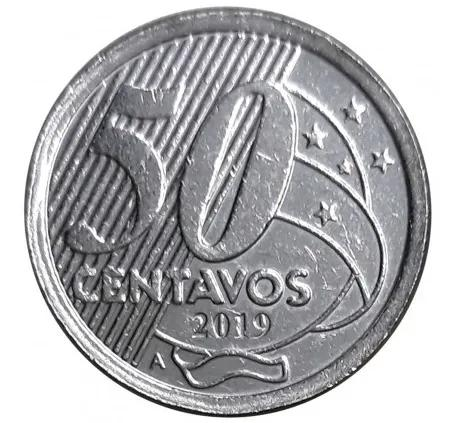25 cent: (1, 1, 456, 420)
